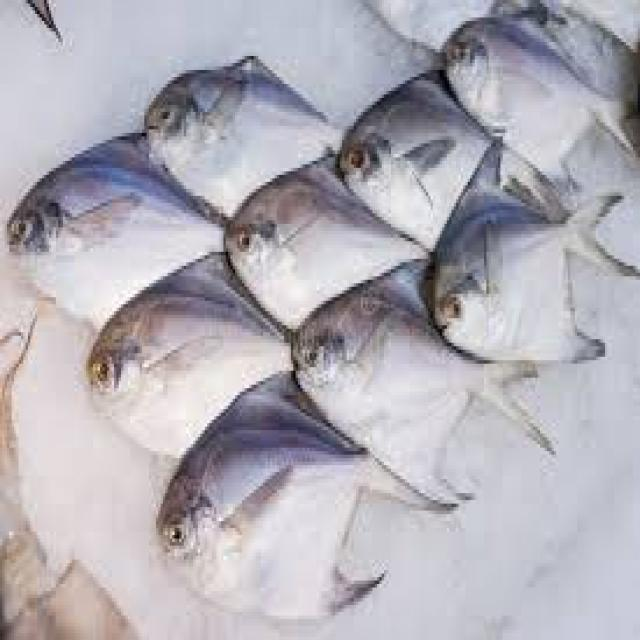pomfred: (153, 378, 454, 625), (82, 258, 291, 455)
